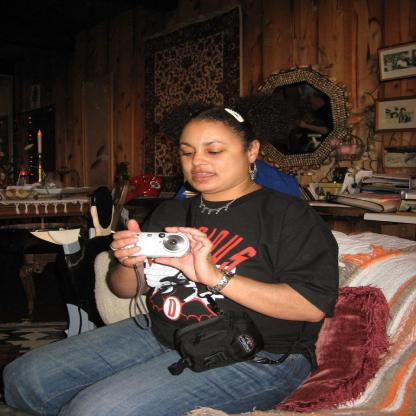Camera: (125, 232, 192, 259)
